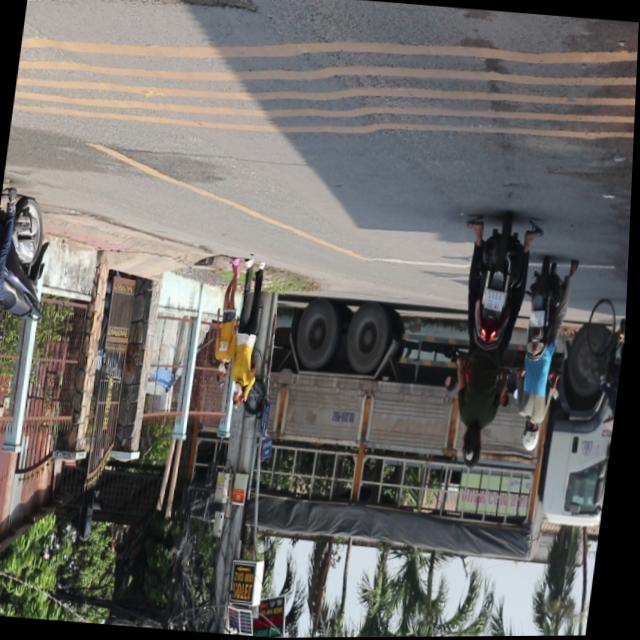licenseplate: (442, 212, 539, 469)
motorcyclist: (463, 427, 487, 466)
nohelmet: (485, 289, 508, 311)
